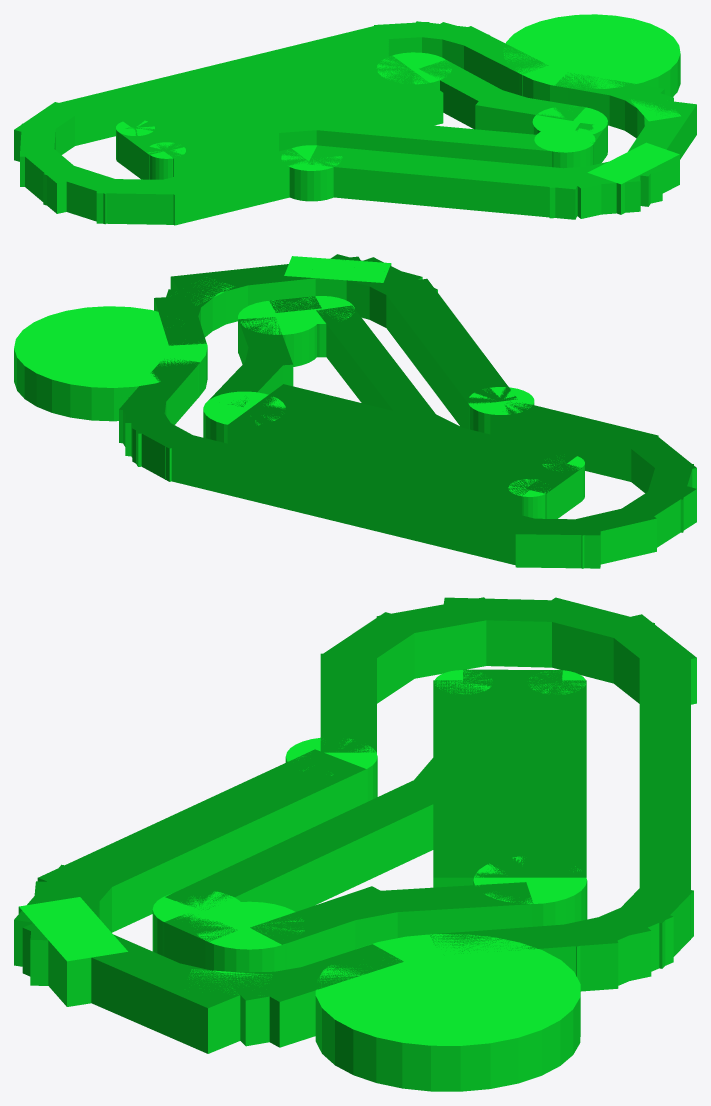
The model's file is colisions.DAE.
3 renders of one model, top to bottom at view 1: azimuth 30°, elevation 25°; view 2: azimuth 150°, elevation 25°; view 3: azimuth 270°, elevation 25°, orthographic. The views are drawn at different scales.
Parts seen in each view (by area): view 1: Circle002; view 2: Circle002; view 3: Circle002.
Part boxes in pixels (<box>): Circle002: <box>14,14,696,225</box>; Circle002: <box>14,254,696,568</box>; Circle002: <box>14,597,696,1091</box>.
Bounding box in the file's own units: 478 × 22.73 × 308.
